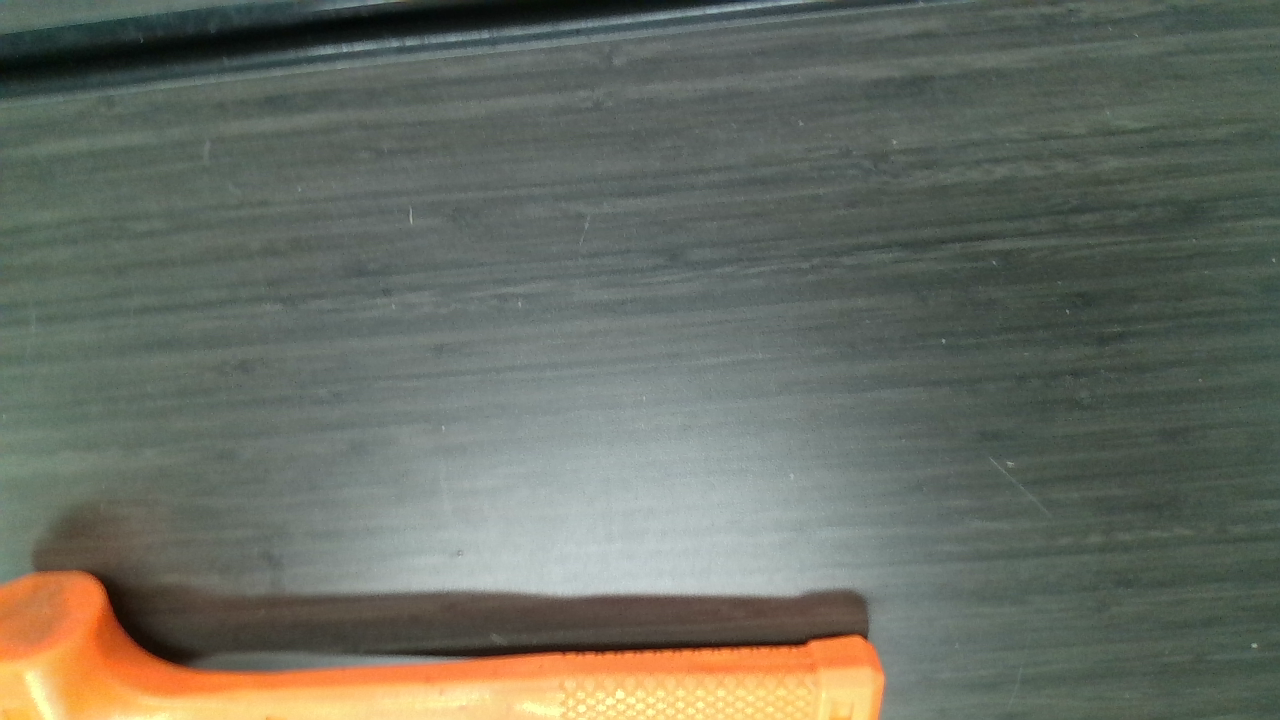Orange Hammer: (0, 572, 891, 720)
